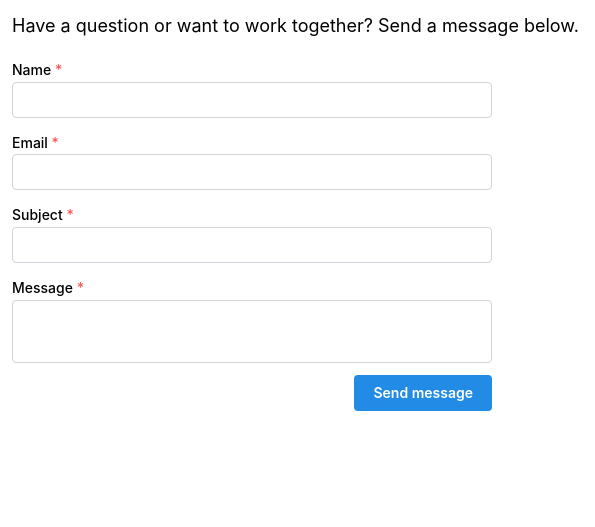
Test: ContactPage submission › submits the form fields to Netlify Forms and shows a success message
In the field labelled "Name": (252, 100) [12, 82, 492, 118], type "Jane Recruiter"
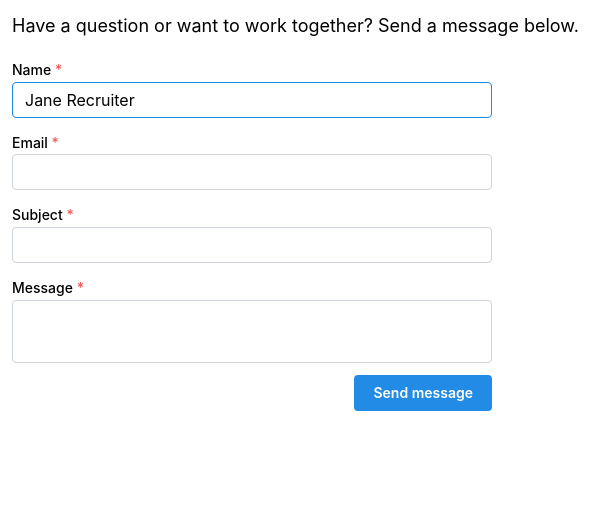
In the field labelled "Email": (252, 172) [12, 154, 492, 190], type "jane@example.com"
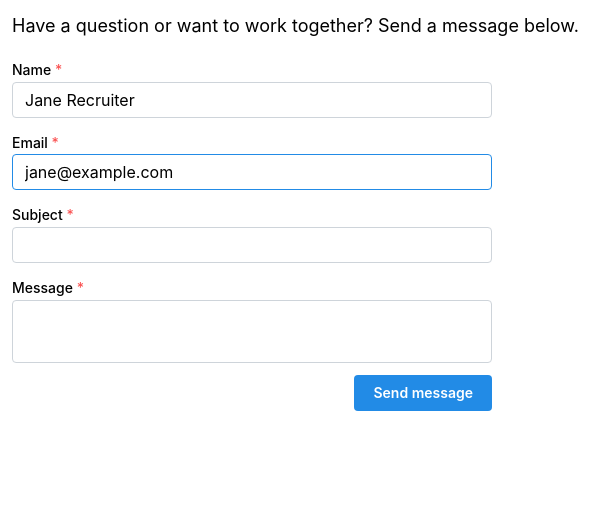
In the field labelled "Subject": (252, 245) [12, 227, 492, 263], type "Let's talk"
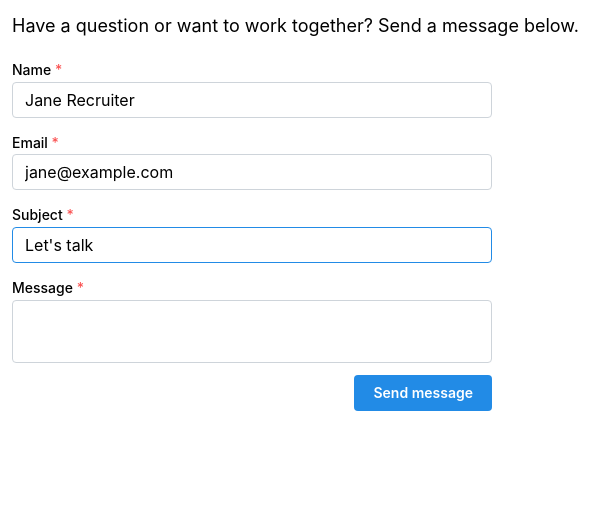
In the text box labelled "Message": (252, 331) [12, 300, 492, 363], type "Are you open to opportunities?"
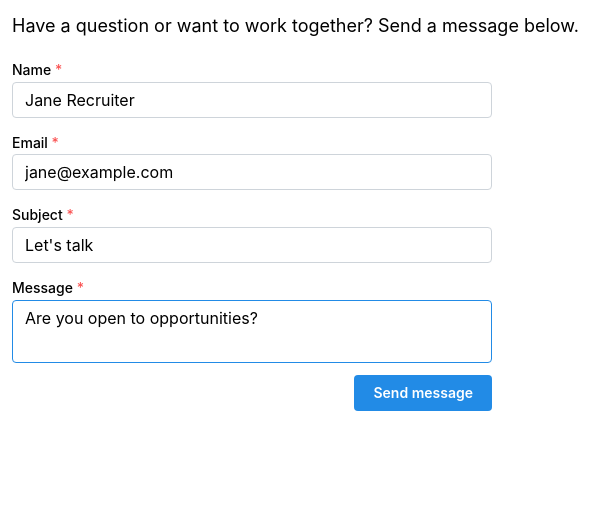
Click the button "Send message": (423, 393) [354, 375, 492, 411]
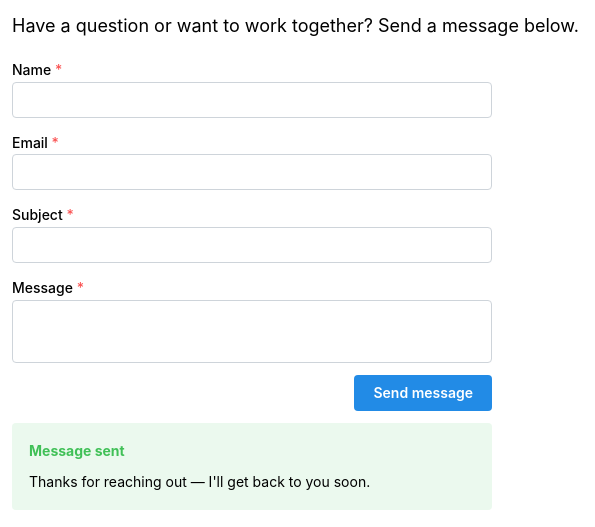
Check: the text "Message sent" is shown, box [29, 440, 125, 461]
